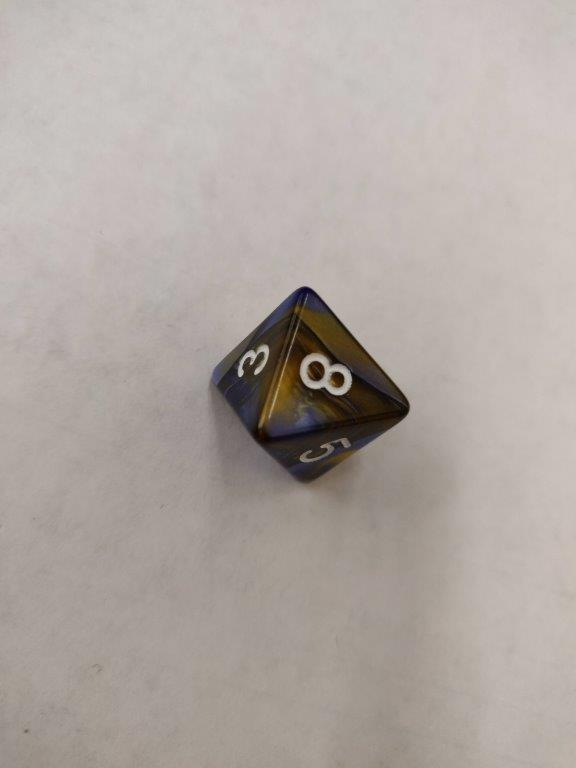d8-8: (217, 286, 414, 488)
